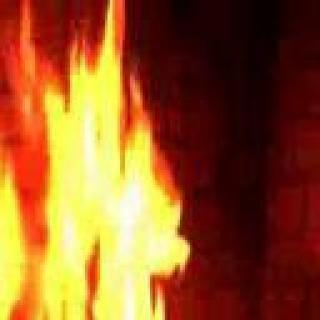fire: (0, 50, 214, 320)
